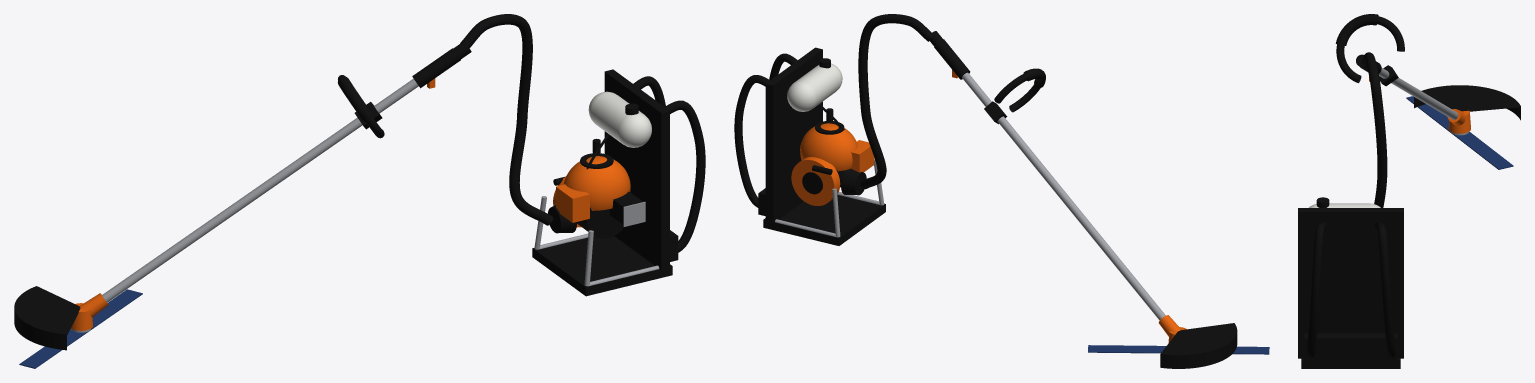
File: mesin_potong_rumput.obj
3 views of the same model, side by side, from view 1: azimuth 30°, elevation 25°; view 2: azimuth 150°, elevation 25°; view 3: azimuth 270°, elevation 25° (orthographic). The views are drawn at different scales.
Parts seen in each view (by area): view 1: back_plate, base_frame, drive_pole, flex_shaft, cylinder_shroud, fuel_tank, guard_top, shoulder_strap_R, blade, air_filter, crankcase, blade_guard (+2 smaller); view 2: back_plate, base_frame, drive_pole, flex_shaft, cylinder_shroud, fuel_tank, guard_top, recoil_starter, shoulder_strap_L, blade_guard, blade, loop_bar (+3 smaller); view 3: back_plate, hip_pad, guard_top, flex_shaft, shoulder_strap_R, shoulder_strap_L, blade, base_frame, loop_bar, drive_pole, loop_grip, gear_case (+2 smaller).
Boxes of the visible parts, bbox=[...] form: back_plate: bbox=[604, 69, 669, 270]; base_frame: bbox=[532, 236, 672, 296]; drive_pole: bbox=[102, 79, 418, 302]; flex_shaft: bbox=[460, 14, 553, 225]; cylinder_shroud: bbox=[563, 156, 630, 210]; fuel_tank: bbox=[588, 91, 651, 147]; guard_top: bbox=[14, 286, 80, 335]; shoulder_strap_R: bbox=[665, 100, 705, 252]; blade: bbox=[19, 289, 142, 368]; air_filter: bbox=[556, 184, 589, 222]; crankcase: bbox=[577, 207, 623, 238]; blade_guard: bbox=[14, 310, 66, 350]; back_plate: bbox=[765, 47, 822, 223]; base_frame: bbox=[763, 195, 885, 245]; drive_pole: bbox=[962, 72, 1165, 320]; flex_shaft: bbox=[858, 14, 932, 189]; cylinder_shroud: bbox=[800, 123, 857, 171]; fuel_tank: bbox=[787, 63, 842, 111]; guard_top: bbox=[1160, 323, 1237, 356]; recoil_starter: bbox=[791, 157, 840, 205]; shoulder_strap_L: bbox=[734, 75, 769, 207]; blade_guard: bbox=[1160, 332, 1237, 368]; blade: bbox=[1088, 345, 1269, 354]; loop_bar: bbox=[994, 72, 1040, 112]; back_plate: bbox=[1298, 208, 1403, 358]; hip_pad: bbox=[1304, 333, 1397, 360]; guard_top: bbox=[1421, 85, 1520, 111]; flex_shaft: bbox=[1362, 52, 1387, 207]; shoulder_strap_R: bbox=[1306, 222, 1327, 357]; shoulder_strap_L: bbox=[1374, 222, 1395, 357]; blade: bbox=[1406, 96, 1513, 169]; base_frame: bbox=[1301, 358, 1400, 368]; loop_bar: bbox=[1336, 16, 1404, 83]; drive_pole: bbox=[1379, 68, 1458, 119]; loop_grip: bbox=[1335, 14, 1378, 45]; gear_case: bbox=[1448, 110, 1470, 133].
Size of the model in its own units: 2.17 by 0.8775 by 0.7158.
